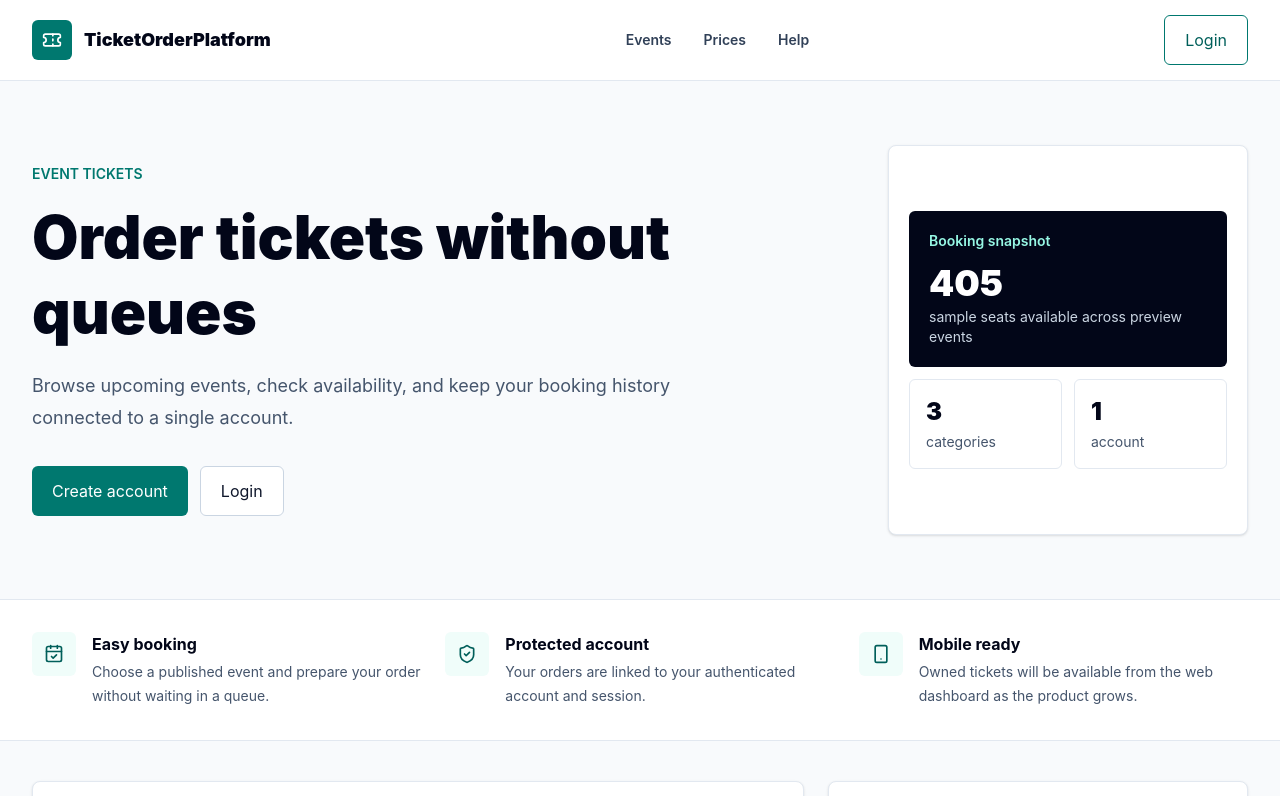
Test: App › switches to registration and creates an account
Click the button "Create account": (110, 491) [32,466,188,516]
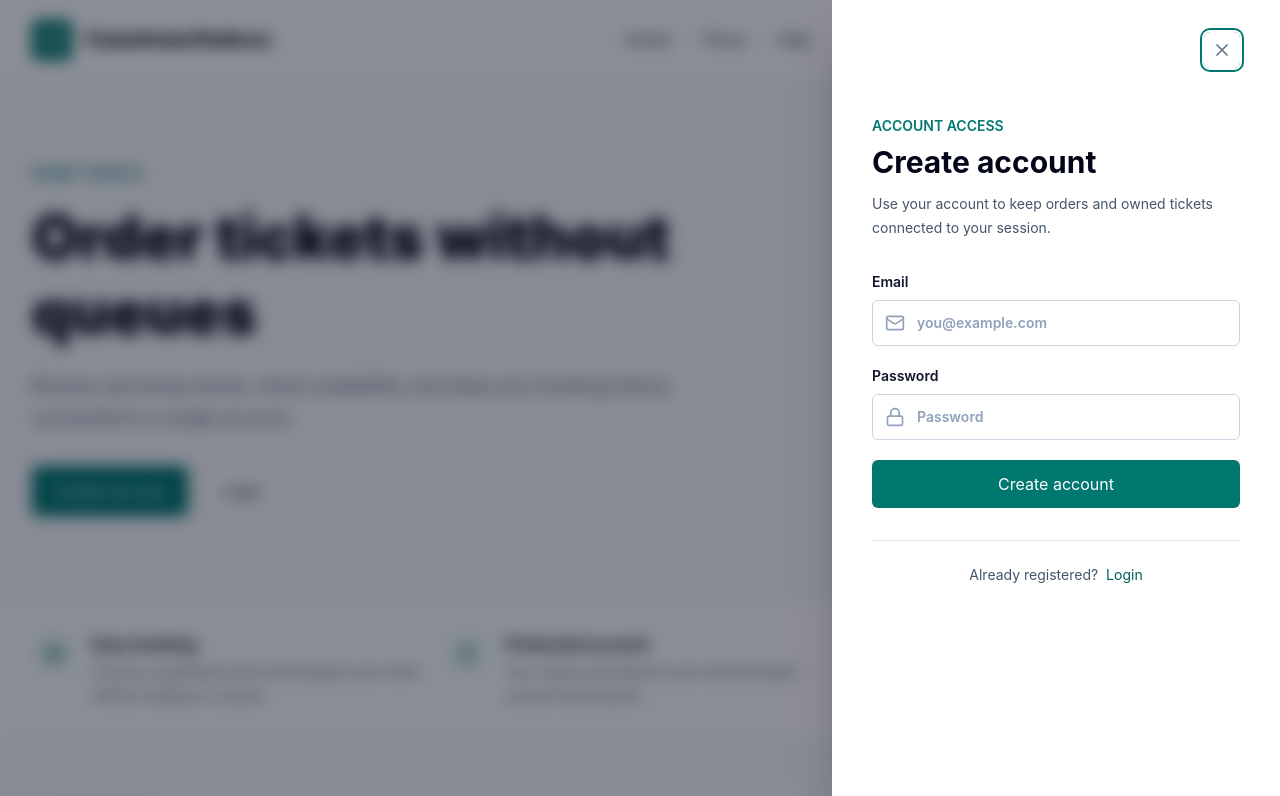
In the field labelled "Email": (1072, 323) [917,313,1227,333], type "new-buyer@example.com"
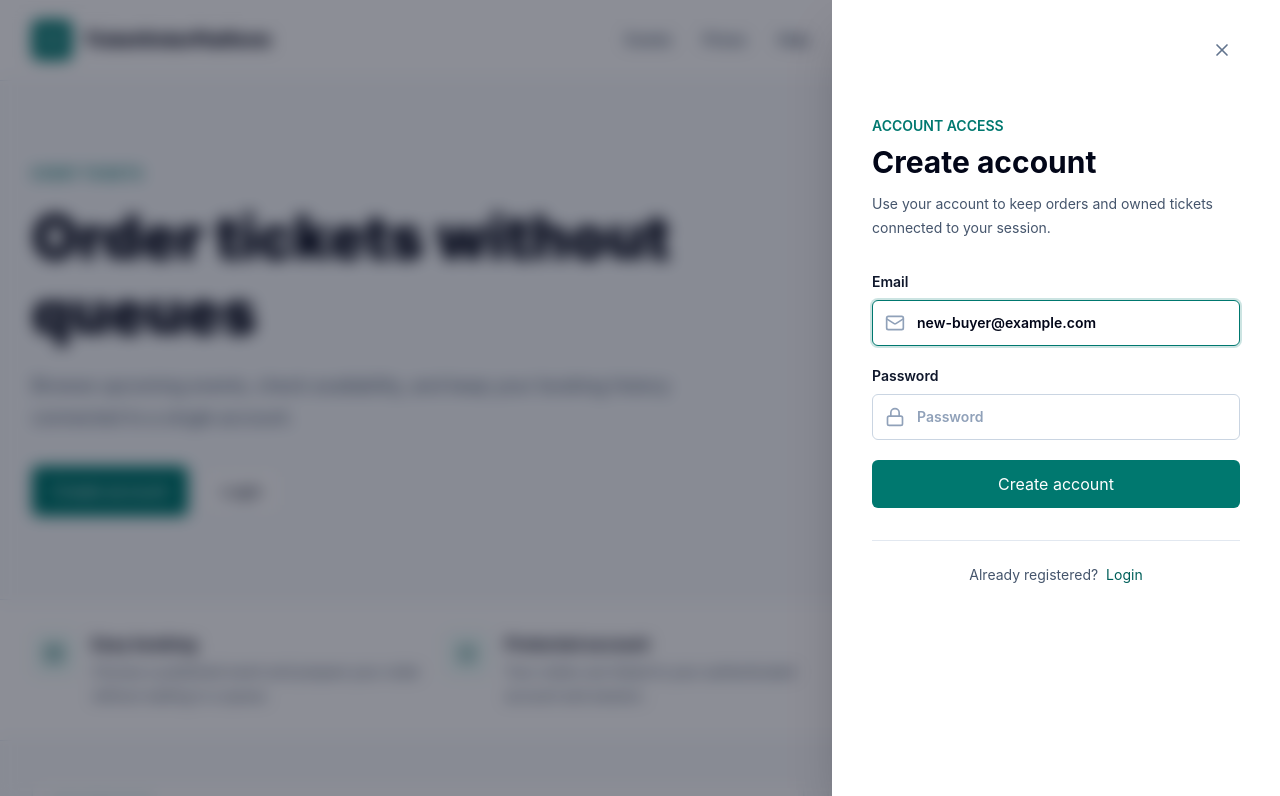
In the password field labelled "Password": (1072, 417) [917,407,1227,427], type "new-password"
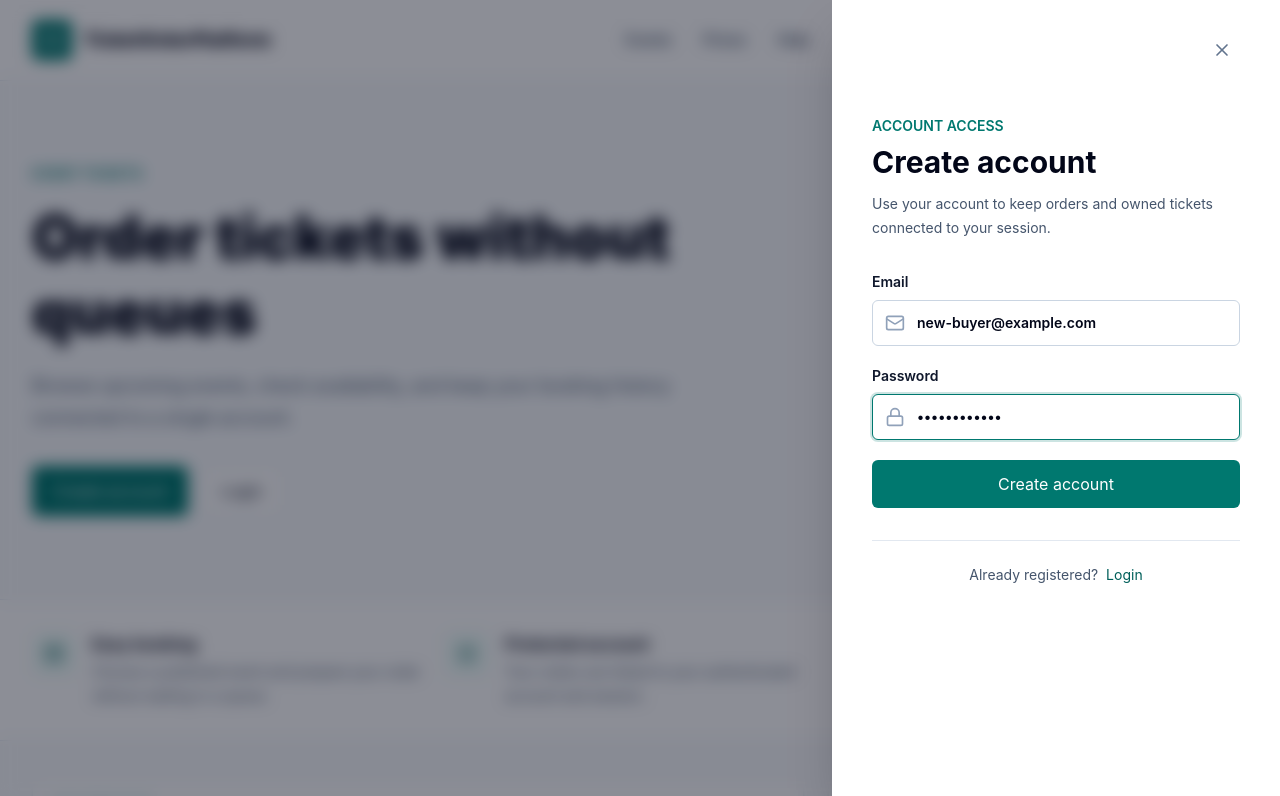
Click the button "Create account": (1056, 484) [872,460,1240,508]
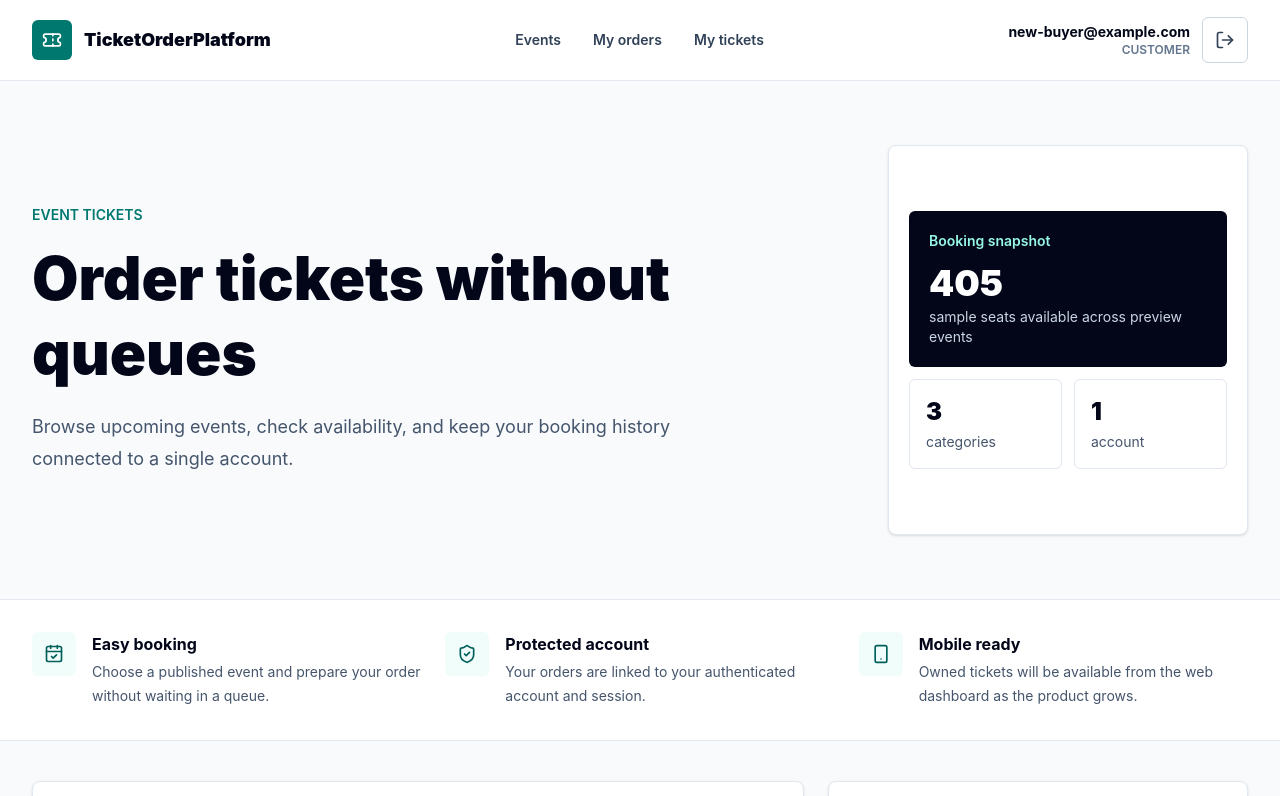
Result: the text "new-buyer@example.com" is shown at [1008,22,1190,42]
Result: the button "Create account" is gone
Result: the button "Login" is gone
